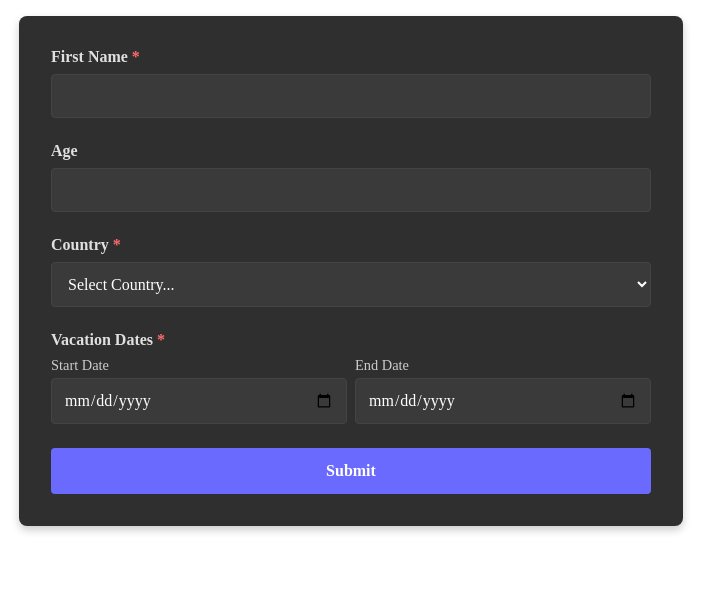
Test: FormRenderer Component › clears error when user interacts with the field
Submit the form from the button "Submit", box [51,448,651,494]
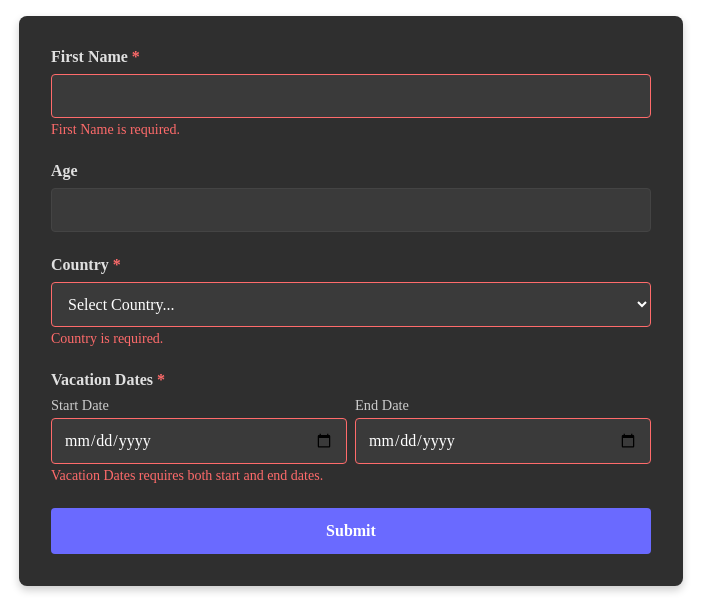
Expected: the text "First Name is required." is shown, [51,122,180,137]
Type "J" into the field labelled "First Name*" at coordinates (351, 96), box [51,74,651,118]
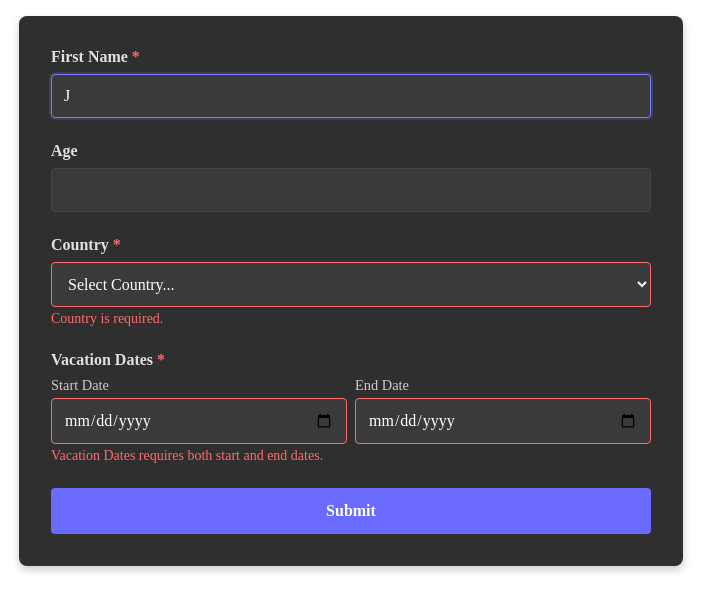
Expected: the text "First Name is required." is gone
